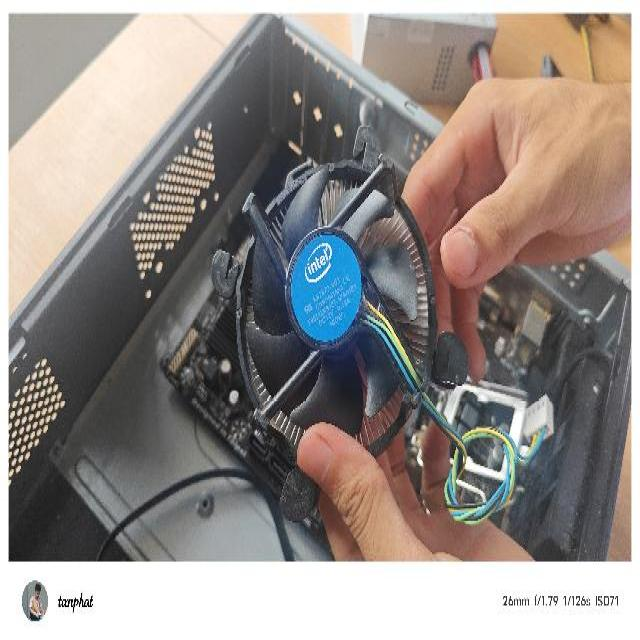CPU_Fan: (207, 119, 471, 526)
